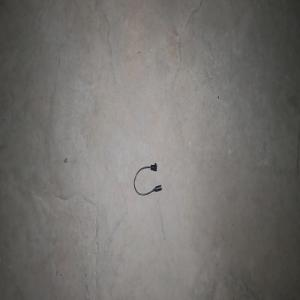Wire: (133, 163, 162, 195)
